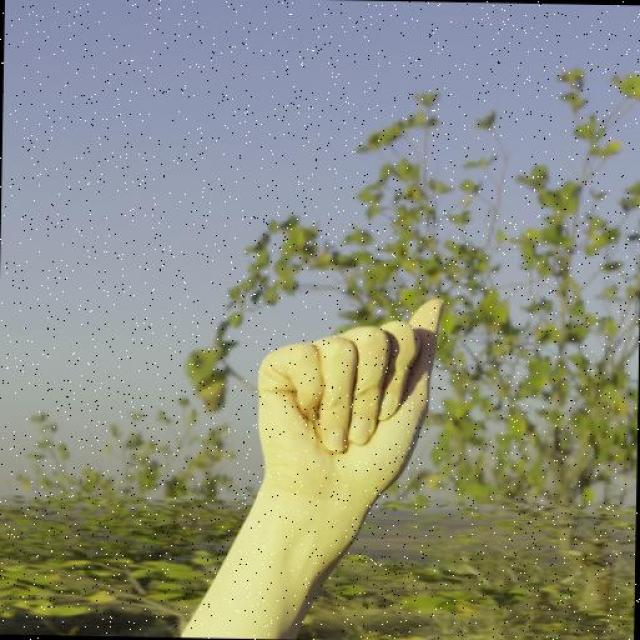A: (250, 284, 457, 524)
